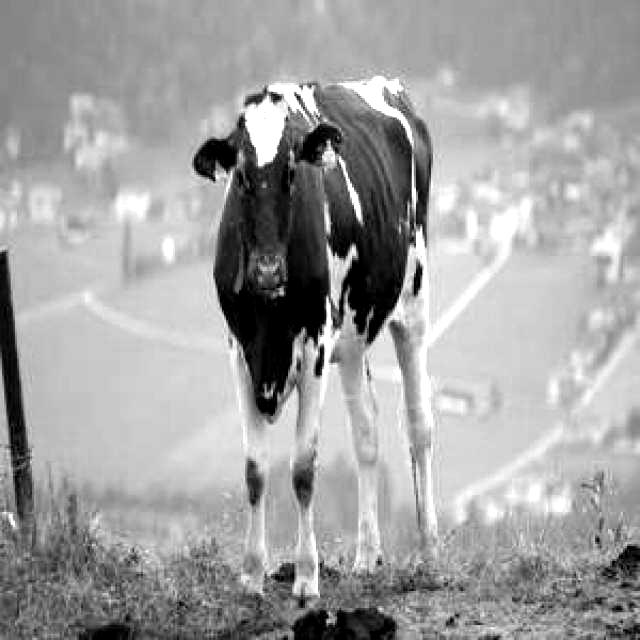COW: (194, 78, 436, 599)
